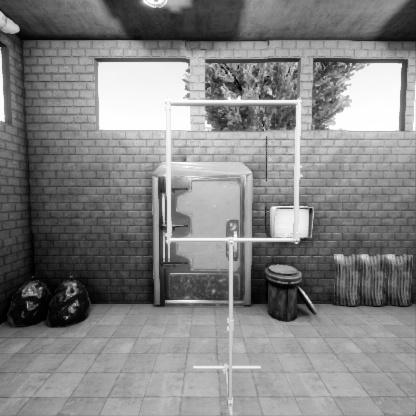gate: (163, 178, 310, 324)
